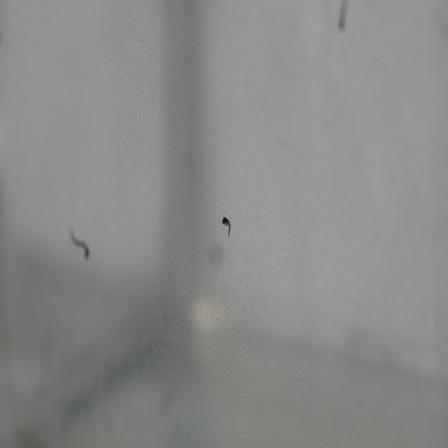Jentik-Nyamuk: (65, 223, 94, 264), (216, 212, 237, 243)
